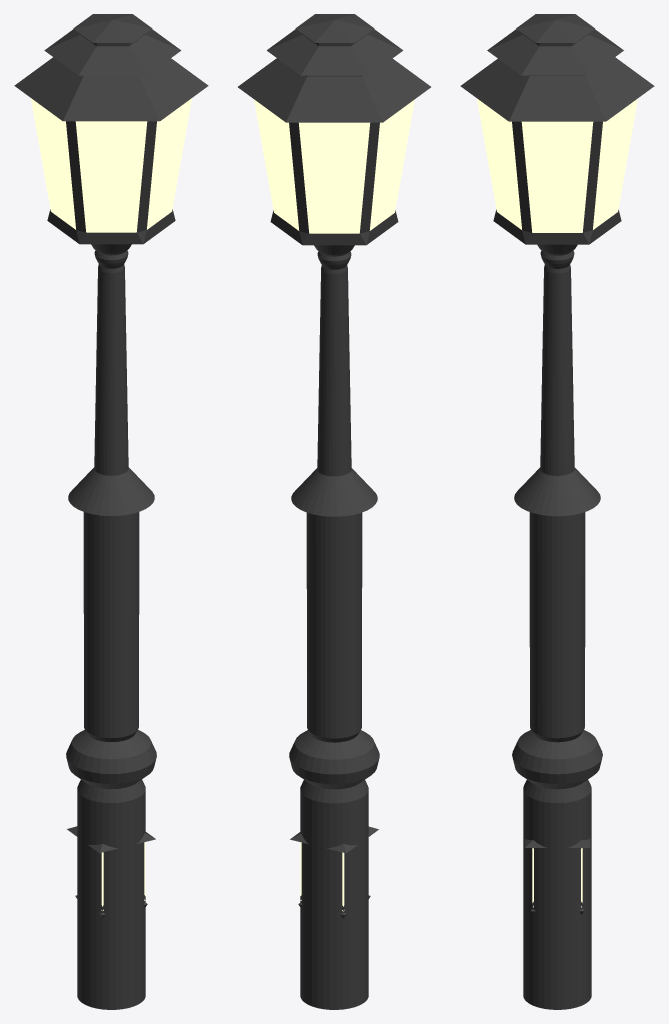
Rendered from Lights.fbx.
The picture shows the model from 3 angles, left to right: view 1: azimuth 30°, elevation 25°; view 2: azimuth 150°, elevation 25°; view 3: azimuth 270°, elevation 25°; orthographic projection.
Visible parts, largest first — view 1: Light Post, Lantern; view 2: Light Post, Lantern; view 3: Light Post, Lantern.
Boxes of the visible parts, x1,y1,x2,y2 form: Light Post: (14, 14, 208, 1009); Lantern: (67, 826, 155, 918); Light Post: (238, 14, 430, 1009); Lantern: (290, 826, 378, 918); Light Post: (460, 14, 654, 1009); Lantern: (524, 838, 590, 914).
Bounding box in the file's own units: 118 × 757 × 137.
